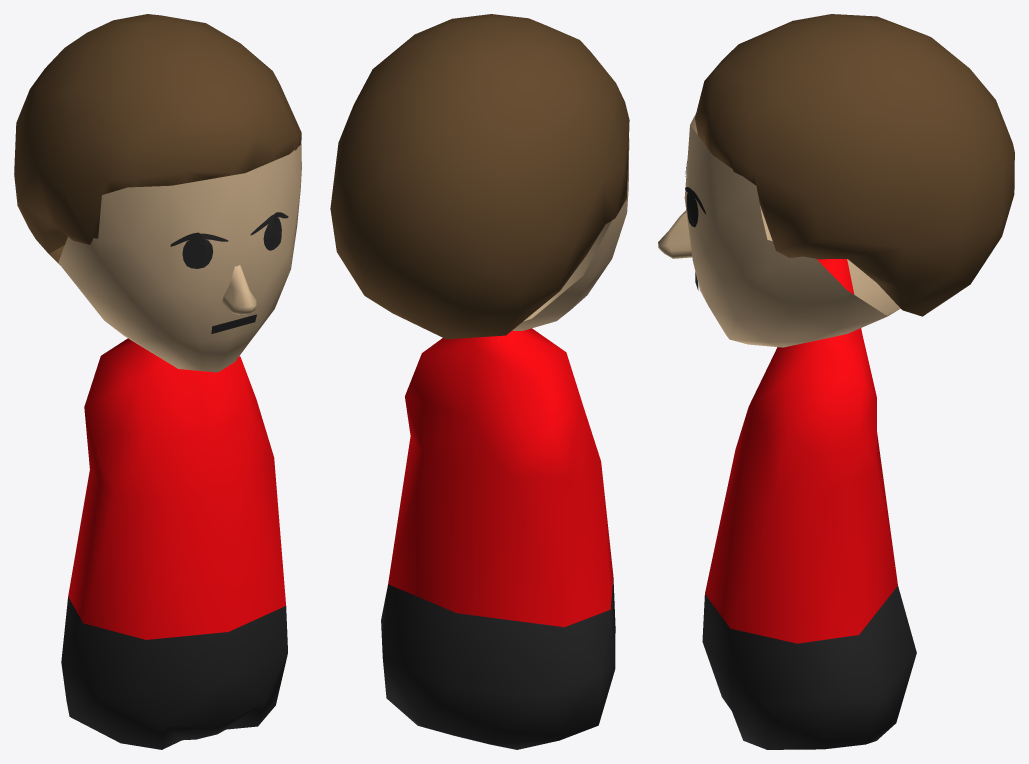
Rendered from mii.glb.
The picture shows the model from 3 angles, left to right: view 1: azimuth 30°, elevation 25°; view 2: azimuth 150°, elevation 25°; view 3: azimuth 270°, elevation 25°; orthographic projection. The views are drawn at different scales.
Parts seen in each view (by area): view 1: torso, hair, head, pants, Face, Nose; view 2: hair, torso, pants, head; view 3: hair, torso, pants, head, Nose.
Part boxes in pixels (x1,y1,x2,y2): torso: (68, 338, 285, 639); hair: (14, 14, 301, 264); head: (58, 144, 301, 372); pants: (61, 597, 287, 749); Face: (170, 212, 288, 333); Nose: (222, 265, 256, 314); hair: (330, 14, 629, 339); torso: (388, 328, 613, 627); pants: (381, 578, 615, 749); head: (512, 138, 629, 330); hair: (695, 14, 1014, 316); torso: (705, 259, 897, 643); pants: (702, 586, 916, 749); head: (684, 114, 900, 347); Nose: (658, 210, 692, 258).
Size of the model in its own units: 1.5 by 4.05 by 1.88.
